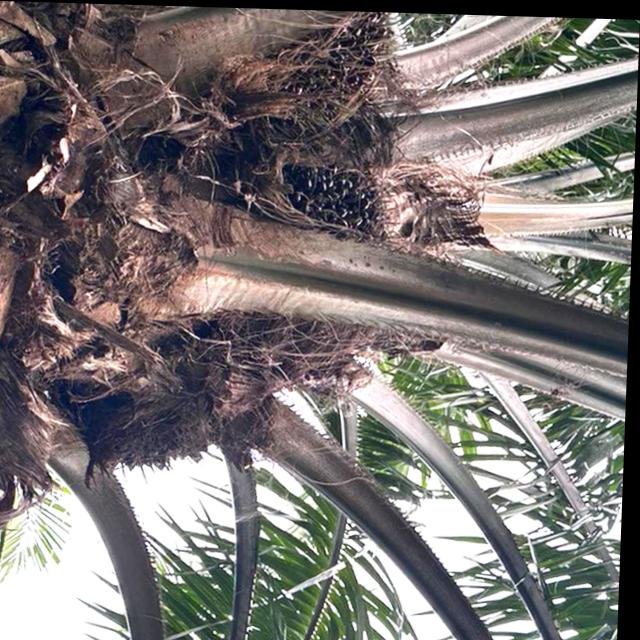almost: (215, 6, 406, 143)
unripe: (239, 150, 407, 266)
